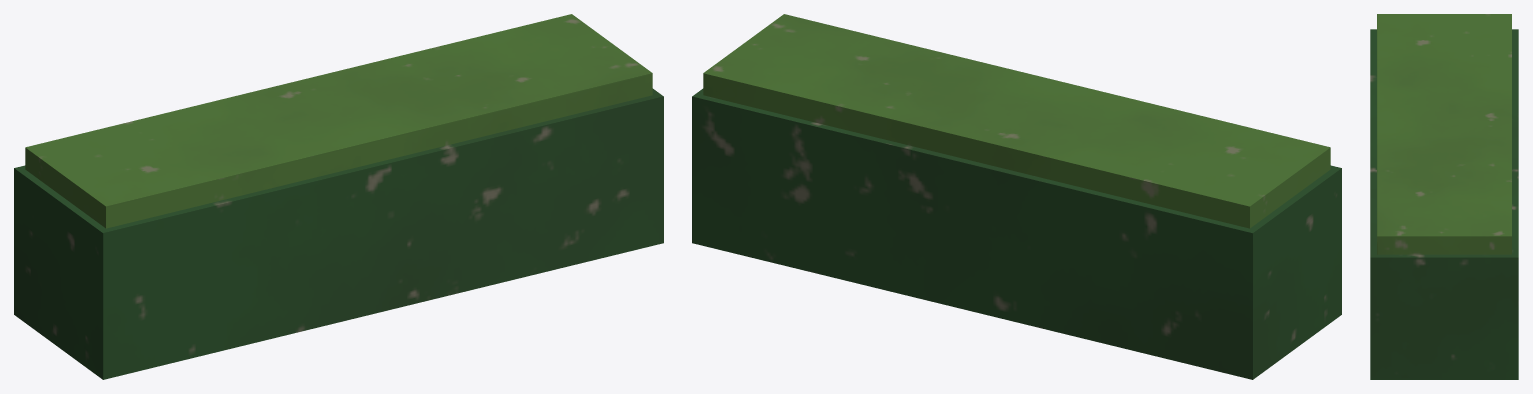
File: Hedge_4m.fbx
3 renders of one model, left to right at view 1: azimuth 30°, elevation 25°; view 2: azimuth 150°, elevation 25°; view 3: azimuth 270°, elevation 25°, orthographic. The views are drawn at different scales.
Parts seen in each view (by area): view 1: Hedge_4m_Mesh; view 2: Hedge_4m_Mesh; view 3: Hedge_4m_Mesh.
Boxes of the visible parts, left/top/right/bottom form: Hedge_4m_Mesh: left=14, top=14, right=663, bottom=379; Hedge_4m_Mesh: left=692, top=14, right=1341, bottom=379; Hedge_4m_Mesh: left=1370, top=14, right=1518, bottom=379.
Bounding box in the file's own units: 4 × 1.15 × 1.1.
